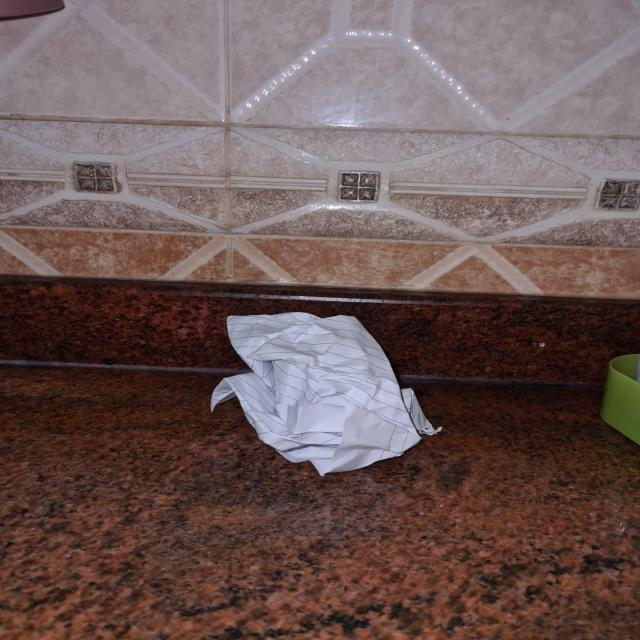Paper: (215, 316, 436, 481)
